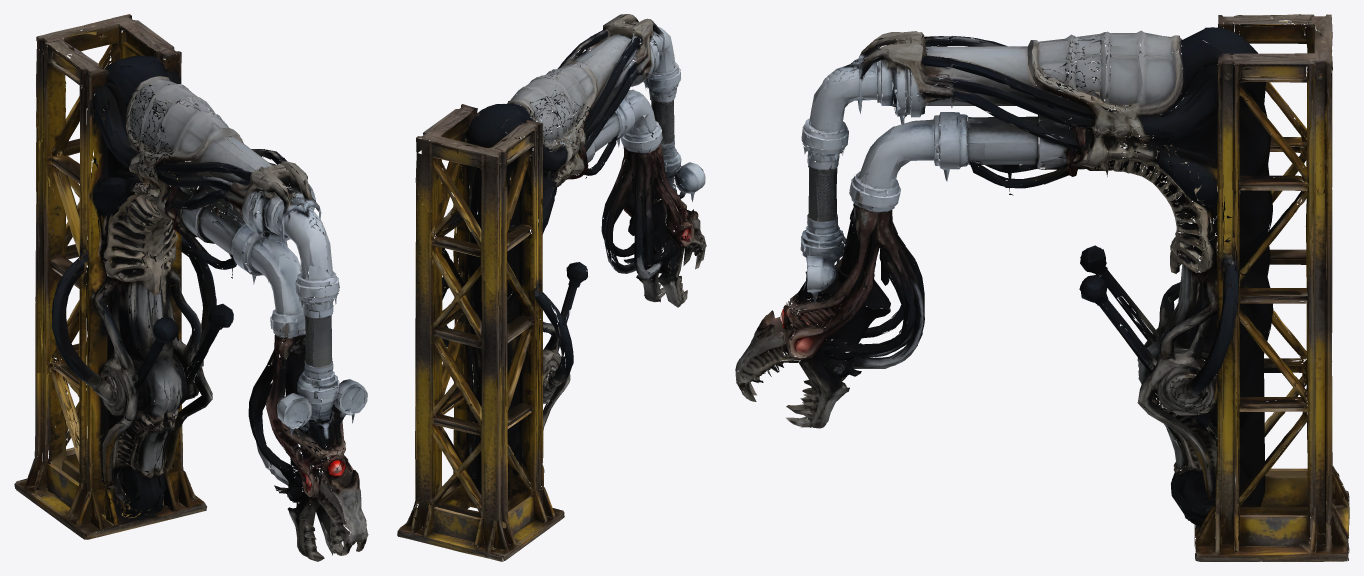
Rendered from engineer_robotic_welding_arm.glb.
3 views of the same model, side by side, from view 1: azimuth 30°, elevation 25°; view 2: azimuth 150°, elevation 25°; view 3: azimuth 270°, elevation 25° (orthographic). The views are drawn at different scales.
Parts seen in each view (by area): view 1: node_0; view 2: node_0; view 3: node_0.
Boxes of the visible parts, <box> form: node_0: <box>14,14,368,561</box>; node_0: <box>397,14,706,561</box>; node_0: <box>735,14,1349,561</box>.
Bounding box in the file's own units: 0.29 × 0.7882 × 0.8838.
Materials: 1 (1 with a texture image).
